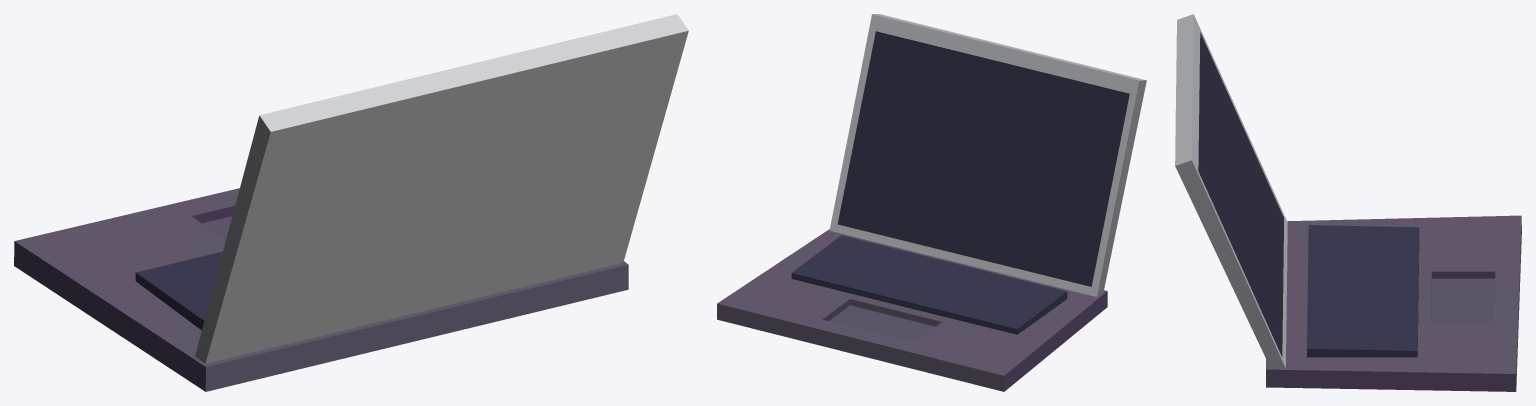
Rendered from djCadenceLaptop.glb.
3 renders of one model, left to right at view 1: azimuth 30°, elevation 25°; view 2: azimuth 150°, elevation 25°; view 3: azimuth 270°, elevation 25°, orthographic. The views are drawn at different scales.
Visible parts, largest first — view 1: djCadenceLaptop; view 2: djCadenceLaptop; view 3: djCadenceLaptop.
Boxes of the visible parts, x1=… form: djCadenceLaptop: x1=14, y1=14, x2=688, y2=391; djCadenceLaptop: x1=717, y1=14, x2=1146, y2=391; djCadenceLaptop: x1=1175, y1=14, x2=1521, y2=391.
Size of the model in its own units: 0.4068 by 0.2715 by 0.3765.
